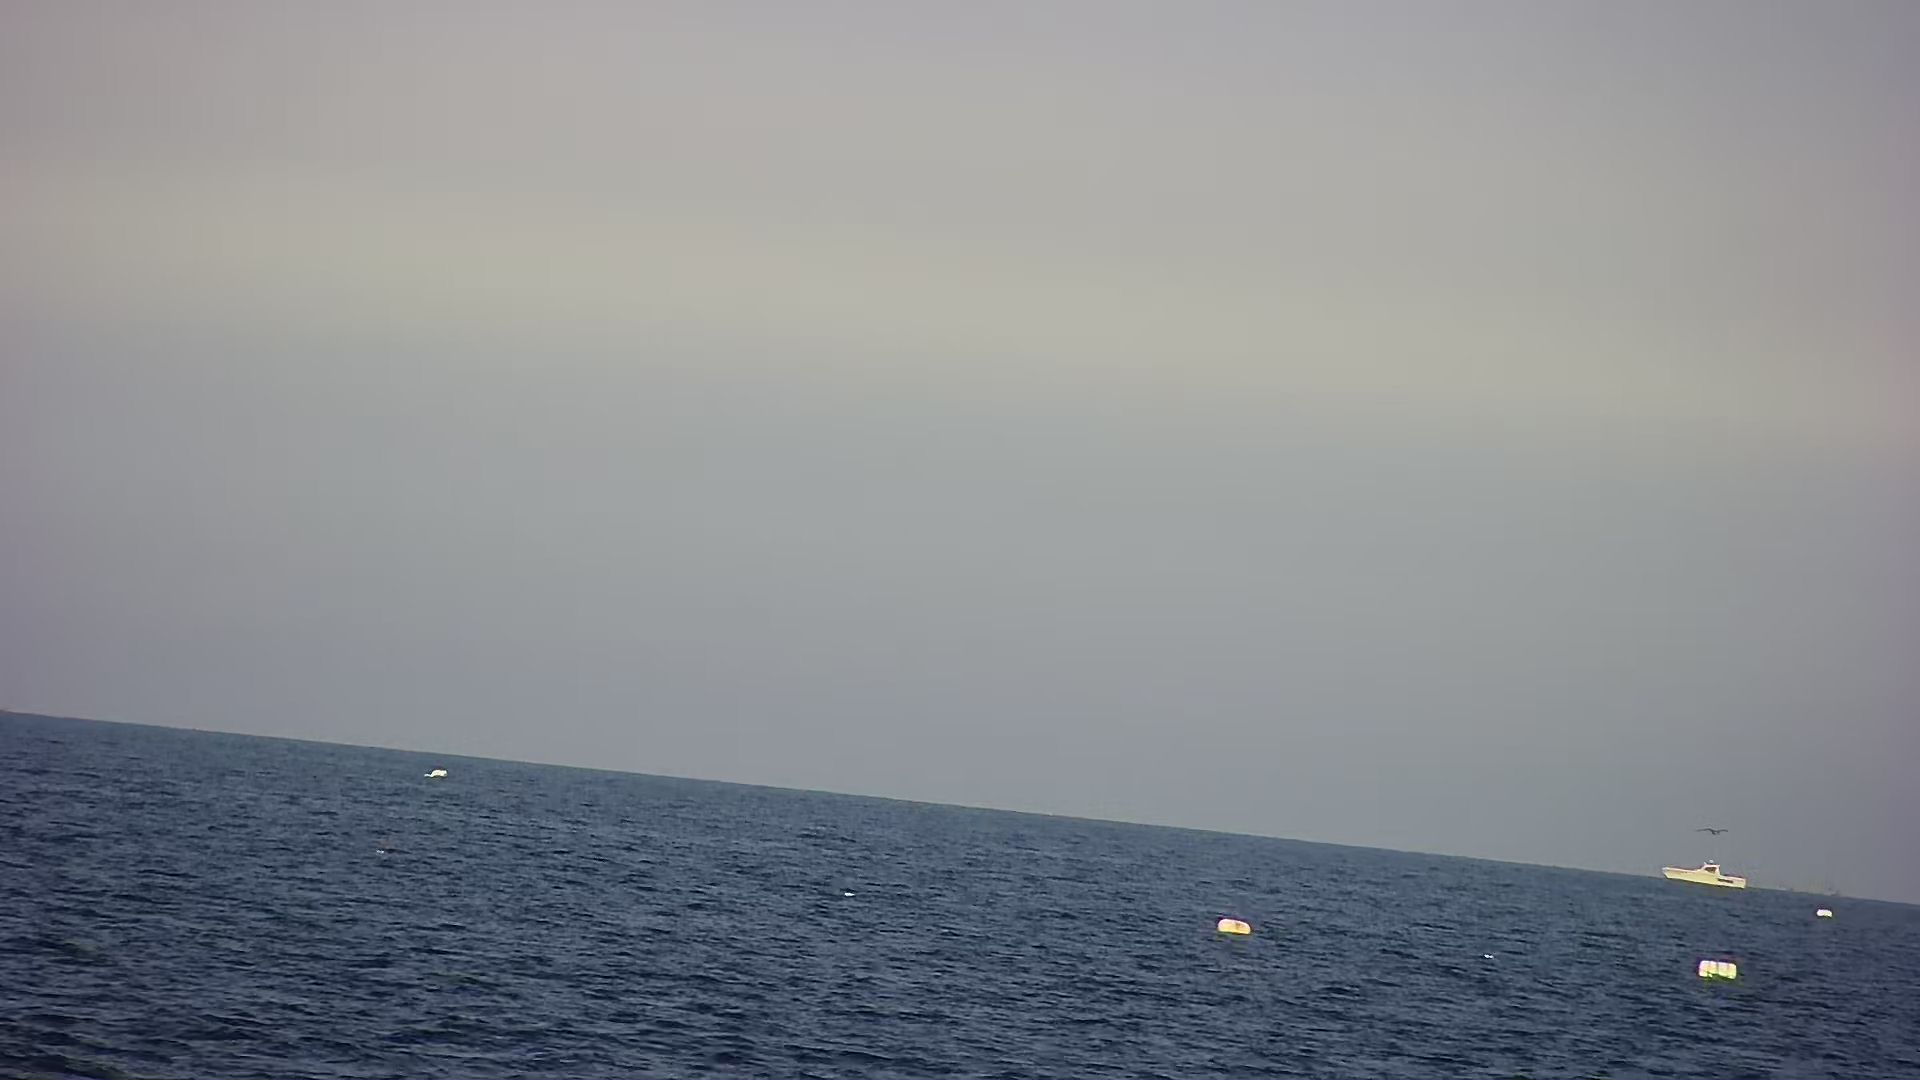rubbish: (1691, 951, 1751, 988), (1209, 906, 1255, 945)
ship: (1658, 847, 1755, 893)
